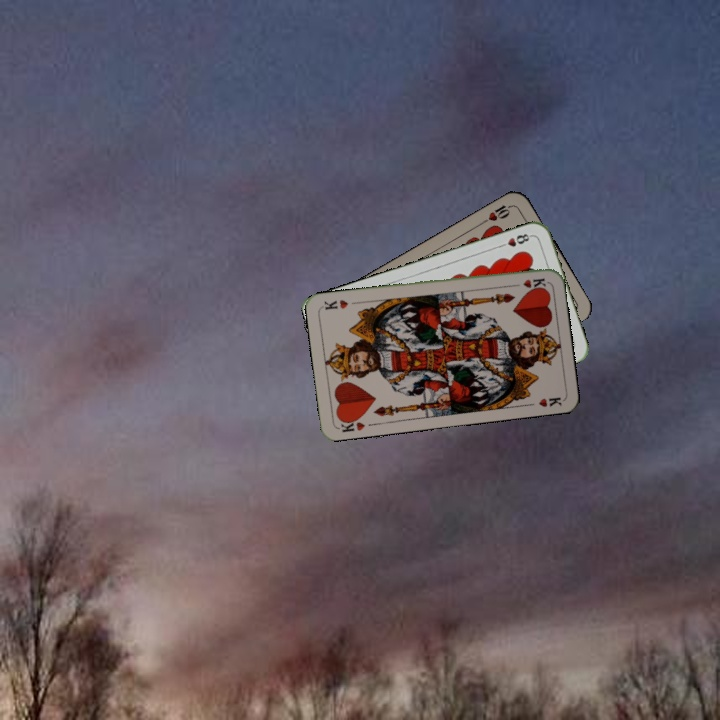H10: (479, 200, 516, 226)
H8: (495, 230, 534, 250)
HK: (508, 274, 549, 291), (336, 413, 367, 435)
